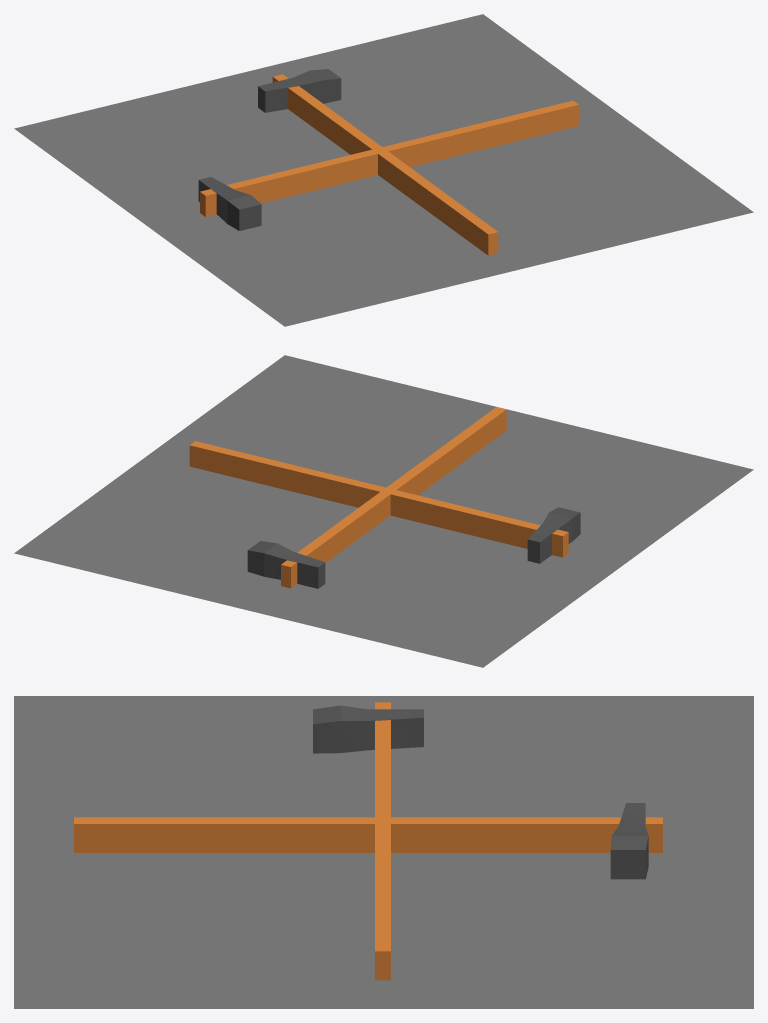
File: construction.glb
The picture shows the model from 3 angles, top to bottom: view 1: azimuth 30°, elevation 25°; view 2: azimuth 150°, elevation 25°; view 3: azimuth 270°, elevation 25°; orthographic projection. The views are drawn at different scales.
Visible parts, largest first — view 1: Rectangle, Cube 2, Cube 2.001, Cube.001, Cube; view 2: Rectangle, Cube 2, Cube 2.001, Cube.001, Cube; view 3: Rectangle, Cube 2.001, Cube 2, Cube, Cube.001.
Part boxes in pixels (<box>): Rectangle: <box>14,14,753,326</box>; Cube 2: <box>200,100,578,216</box>; Cube 2.001: <box>272,74,498,255</box>; Cube.001: <box>258,69,341,112</box>; Cube: <box>198,177,261,230</box>; Rectangle: <box>14,355,753,667</box>; Cube 2: <box>189,441,568,557</box>; Cube 2.001: <box>281,407,506,588</box>; Cube.001: <box>247,541,325,588</box>; Cube: <box>527,507,580,563</box>; Rectangle: <box>14,696,753,1008</box>; Cube 2.001: <box>74,817,662,852</box>; Cube 2: <box>375,702,390,980</box>; Cube: <box>313,705,423,753</box>; Cube.001: <box>610,803,648,879</box>.
Size of the model in its own units: 4 by 0.2379 by 4.
